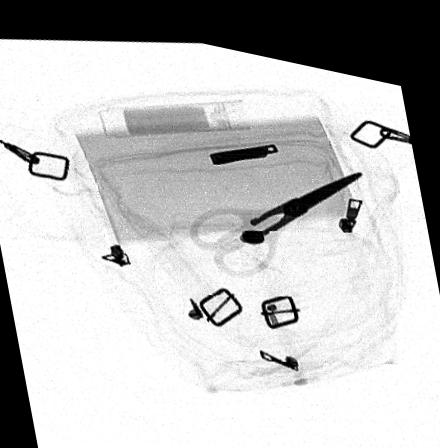Scissors: (187, 153, 367, 268)
